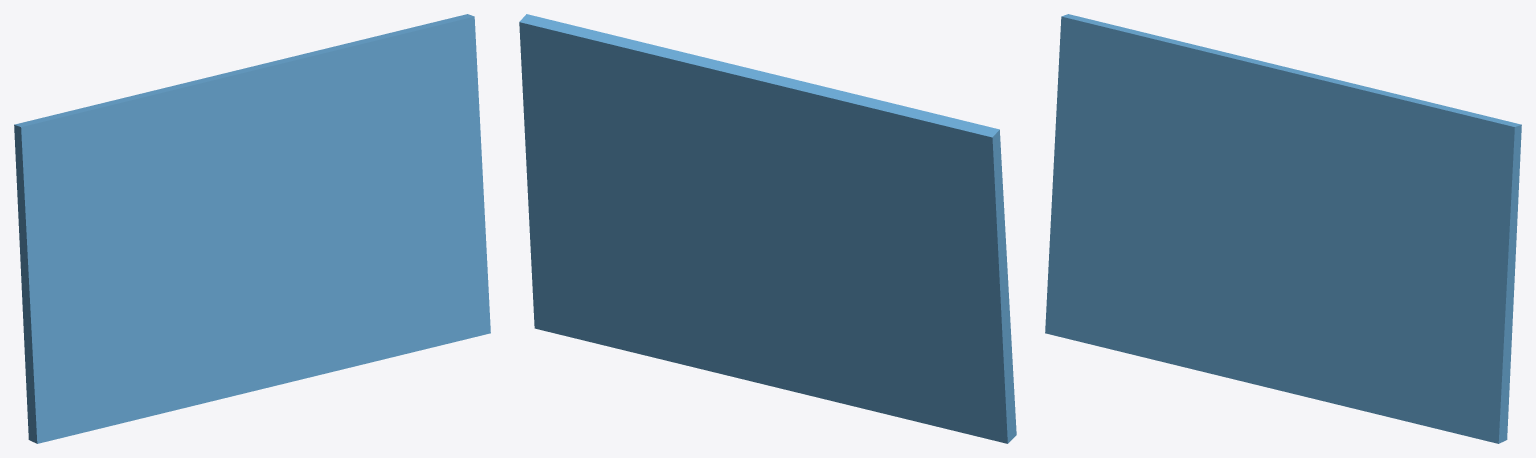
Rendered from Pinball_Screen.fbx.
The picture shows the model from 3 angles, left to right: view 1: azimuth 30°, elevation 25°; view 2: azimuth 150°, elevation 25°; view 3: azimuth 330°, elevation 25°; orthographic projection. The views are drawn at different scales.
Visible parts, largest first — view 1: Pinball_Screen.001; view 2: Pinball_Screen.001; view 3: Pinball_Screen.001.
Boxes of the visible parts, x1,y1,x2,y2 form: Pinball_Screen.001: (14,14,490,443); Pinball_Screen.001: (519,14,1016,443); Pinball_Screen.001: (1045,14,1521,443).
Bounding box in the file's own units: 660 × 427 × 58.49.
